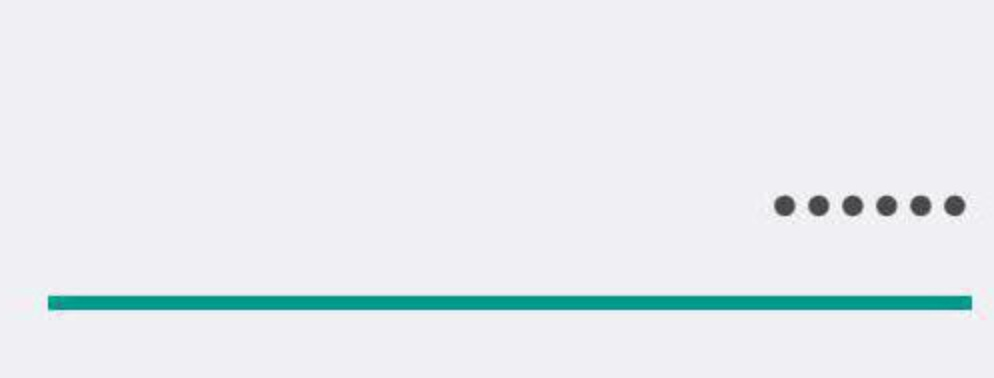EditText: (1, 1, 993, 377)
